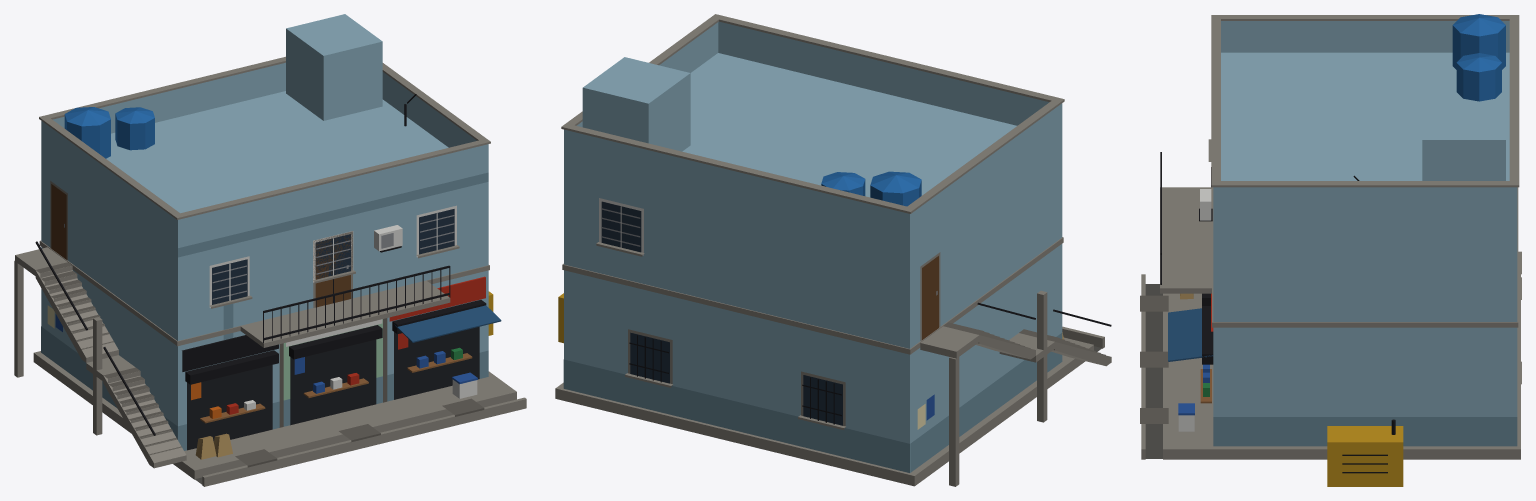
Rendered from building_bode-thomas-betting.glb.
The picture shows the model from 3 angles, left to right: view 1: azimuth 30°, elevation 25°; view 2: azimuth 150°, elevation 25°; view 3: azimuth 270°, elevation 25°; orthographic projection. The views are drawn at different scales.
Parts seen in each view (by area): view 1: body; view 2: body; view 3: body.
Part boxes in pixels (left/top/right/bottom): body: left=14, top=14, right=526, bottom=486; body: left=555, top=14, right=1111, bottom=486; body: left=1140, top=14, right=1521, bottom=486.
Size of the model in its own units: 13.56 by 9 by 10.04.
